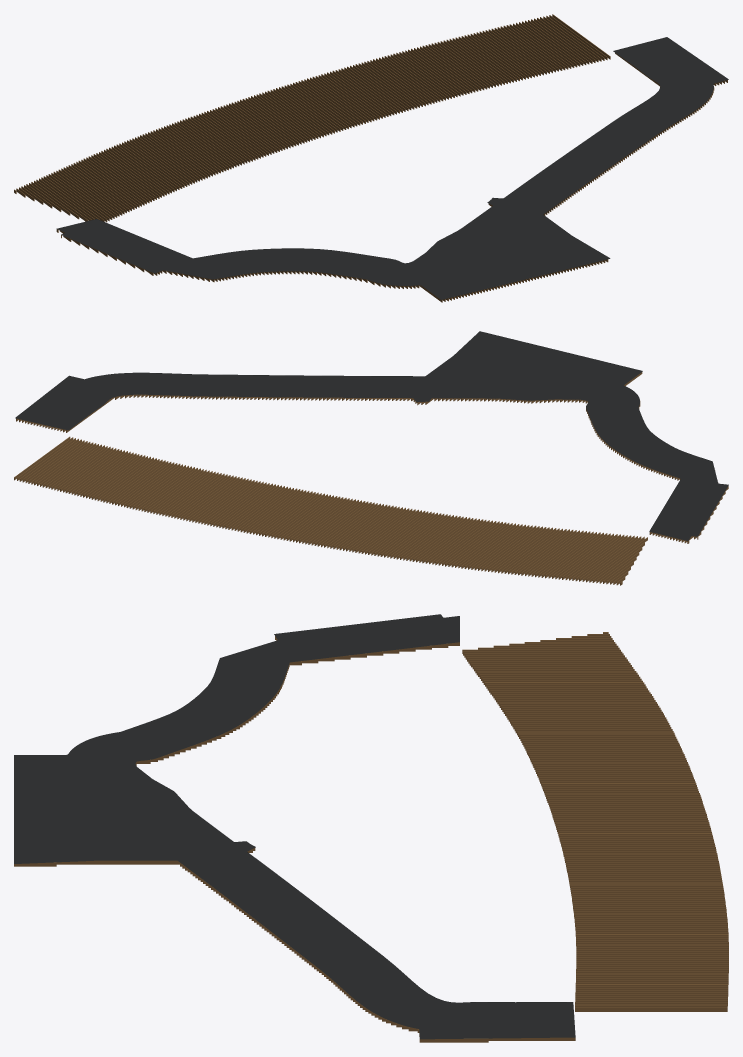
Rendered from SM_L1_Ceiling_Solid_3675fe80ee_0.fbx.
The picture shows the model from 3 angles, top to bottom: view 1: azimuth 30°, elevation 25°; view 2: azimuth 150°, elevation 25°; view 3: azimuth 270°, elevation 25°; orthographic projection. The views are drawn at different scales.
Parts seen in each view (by area): view 1: SM_L1_Ceiling_Solid_3675fe80ee_0; view 2: SM_L1_Ceiling_Solid_3675fe80ee_0; view 3: SM_L1_Ceiling_Solid_3675fe80ee_0.
Boxes of the visible parts, <box> form: SM_L1_Ceiling_Solid_3675fe80ee_0: <box>14,14,728,302</box>; SM_L1_Ceiling_Solid_3675fe80ee_0: <box>14,331,728,585</box>; SM_L1_Ceiling_Solid_3675fe80ee_0: <box>14,614,728,1042</box>.
Size of the model in its own units: 46.1 by 32.78 by 0.569.
